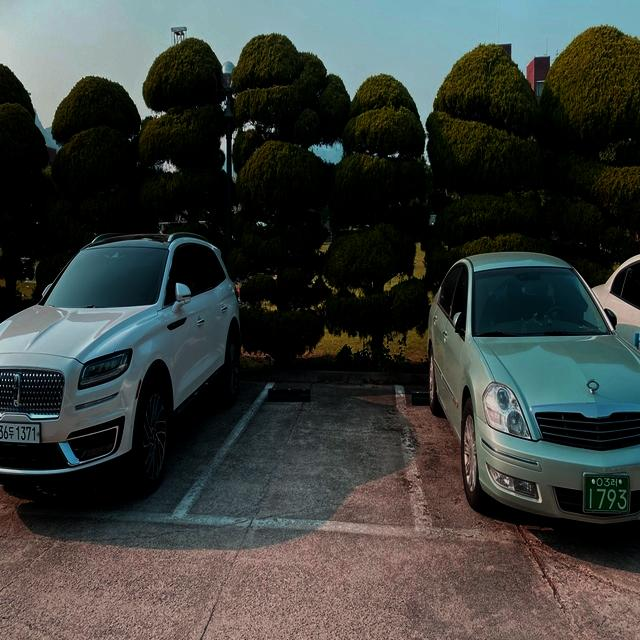empty: (162, 382, 444, 541)
occupied: (2, 235, 242, 480), (427, 254, 640, 516)
